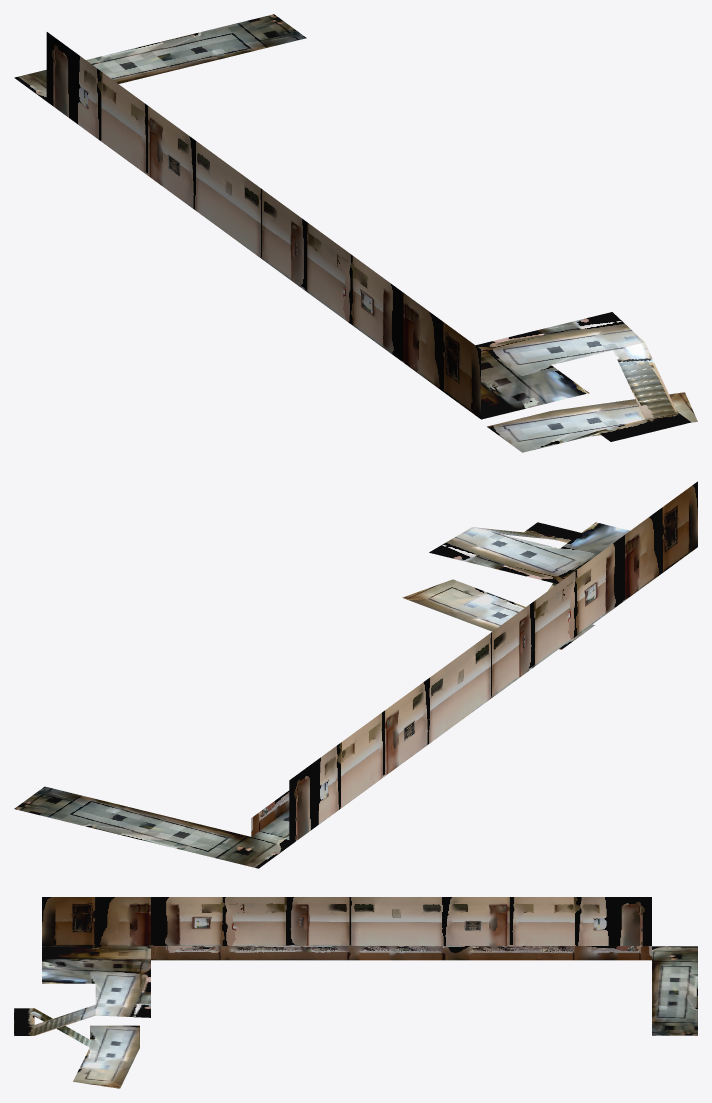
The model's file is DBCE_3F_COMP2.gltf.
3 renders of one model, top to bottom at view 1: azimuth 30°, elevation 25°; view 2: azimuth 150°, elevation 25°; view 3: azimuth 270°, elevation 25°, orthographic. The views are drawn at different scales.
Parts seen in each view (by area): view 1: Plane; view 2: Plane; view 3: Plane.
Part boxes in pixels (<box>): Plane: <box>14,14,697,452</box>; Plane: <box>14,481,697,868</box>; Plane: <box>14,897,697,1088</box>.
Size of the model in its own units: 12.86 by 6.92 by 41.7.
1 material, 1 textured.
